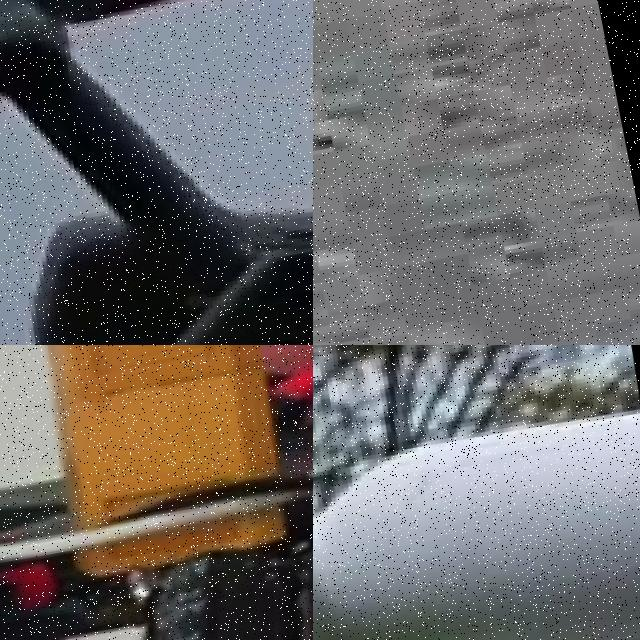drone: (0, 0, 313, 345), (313, 345, 640, 640), (0, 345, 313, 640)
